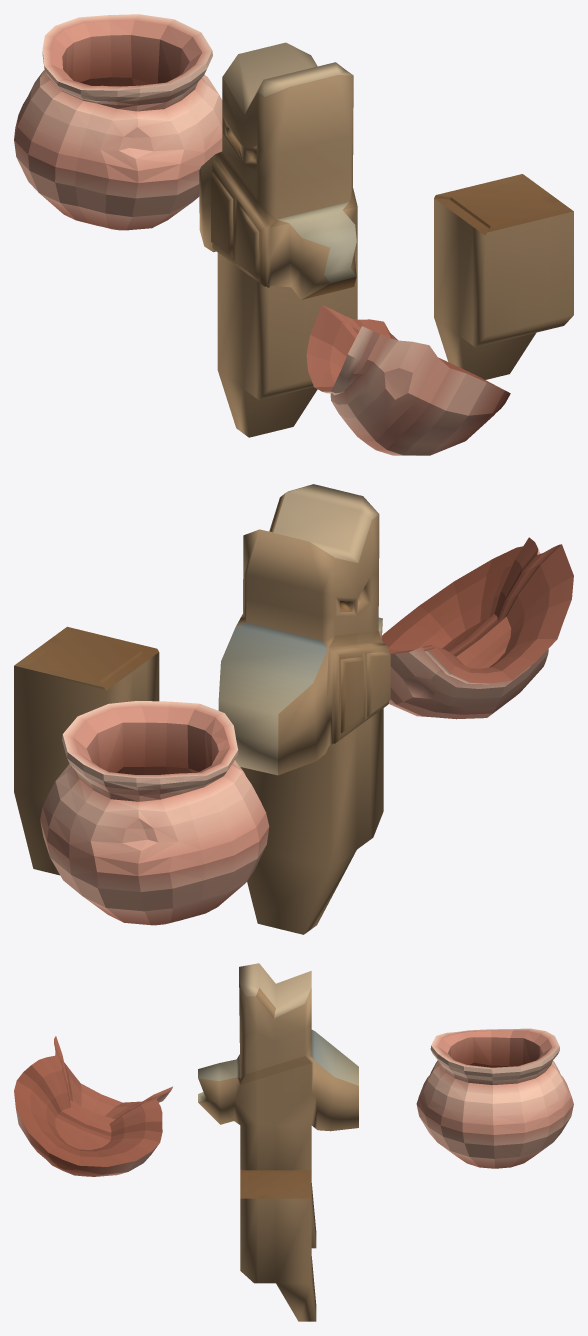
Rendered from DigProps.fbx.
3 renders of one model, top to bottom at view 1: azimuth 30°, elevation 25°; view 2: azimuth 150°, elevation 25°; view 3: azimuth 270°, elevation 25°, orthographic. The views are drawn at different scales.
Parts seen in each view (by area): view 1: UnknownFigure_Complete, Ancient_Bowl, UnknownFigure_Broken, Ancient_Bowl_Chunk1; view 2: UnknownFigure_Complete, Ancient_Bowl, Ancient_Bowl_Chunk1, UnknownFigure_Broken; view 3: UnknownFigure_Complete, Ancient_Bowl, Ancient_Bowl_Chunk1, UnknownFigure_Broken.
Part boxes in pixels (bbox=[...]): UnknownFigure_Complete: bbox=[199, 42, 357, 437]; Ancient_Bowl: bbox=[14, 14, 222, 230]; UnknownFigure_Broken: bbox=[434, 174, 573, 379]; Ancient_Bowl_Chunk1: bbox=[306, 305, 510, 455]; UnknownFigure_Complete: bbox=[218, 484, 390, 934]; Ancient_Bowl: bbox=[40, 701, 269, 925]; Ancient_Bowl_Chunk1: bbox=[382, 537, 573, 719]; UnknownFigure_Broken: bbox=[14, 626, 159, 875]; UnknownFigure_Complete: bbox=[198, 963, 358, 1248]; Ancient_Bowl: bbox=[416, 1028, 573, 1168]; Ancient_Bowl_Chunk1: bbox=[14, 1036, 172, 1176]; UnknownFigure_Broken: bbox=[240, 1169, 316, 1321].
Bounding box in the file's own units: 4.12 × 4.12 × 7.86.
Materials: 1 (1 with a texture image).
